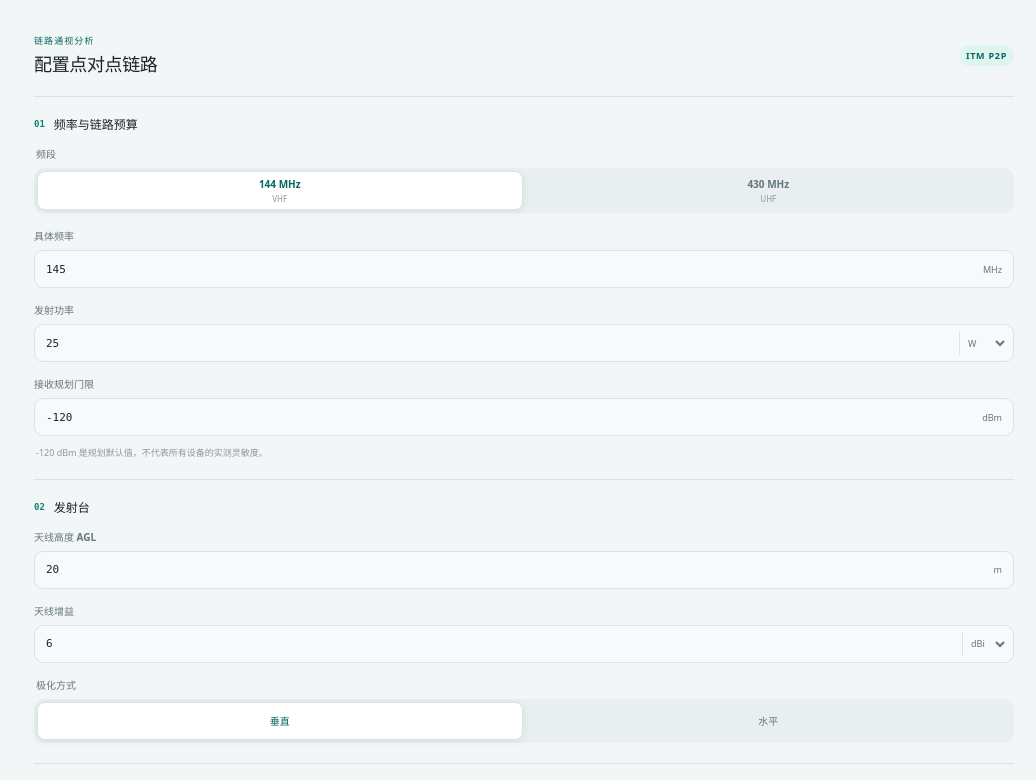
LinkParameterPanel › keeps endpoint polarization independent and switches band frequency
Click the button "430 MHz UHF" at (768, 190), box 526,171 -> 1011,210
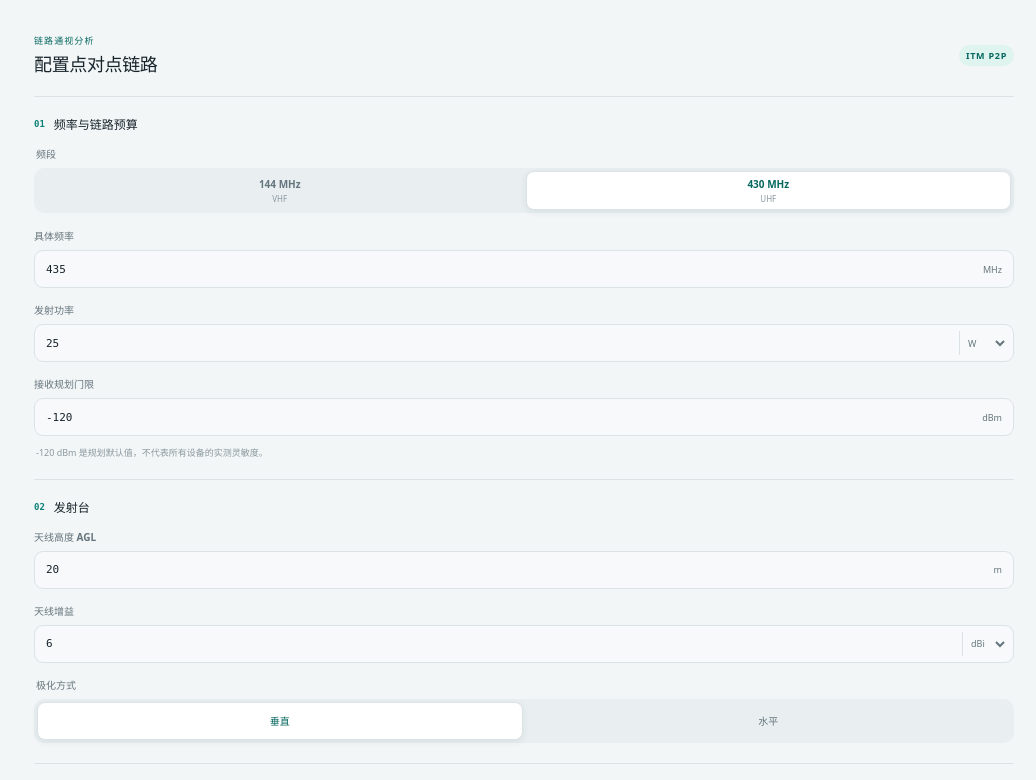
Click the button "水平" at (768, 721), box 526,702 -> 1011,740
(page scrolled)
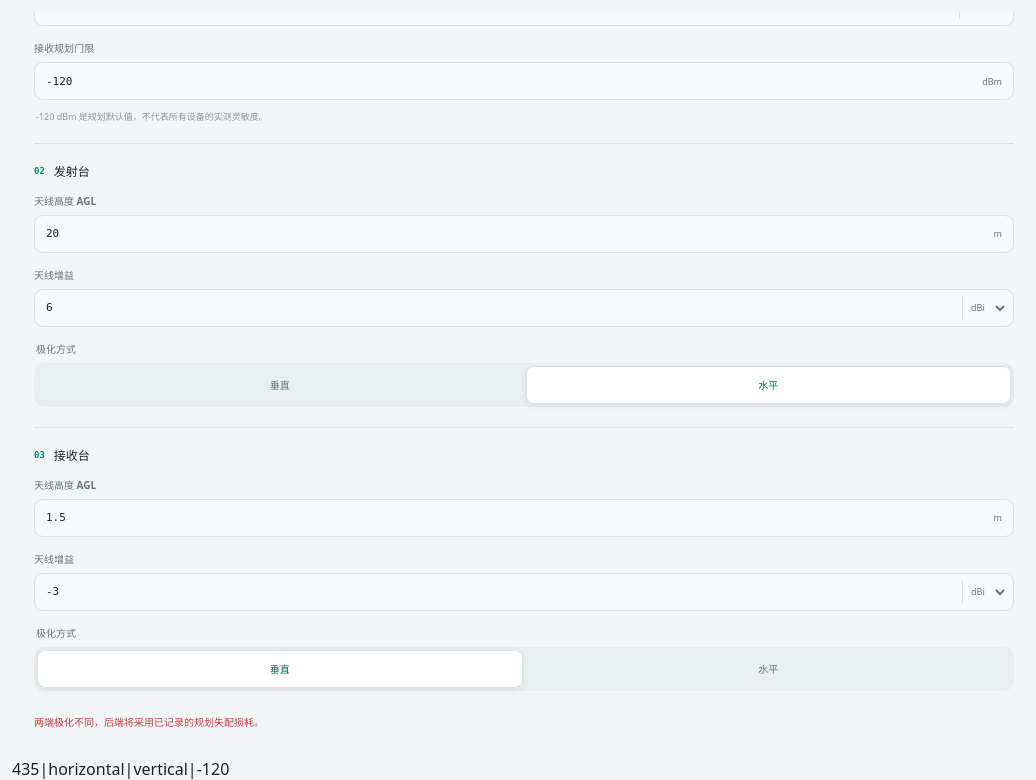
Now the text with test id "link-values" shows "435|horizontal|vertical", box 12,758 -> 40,779
